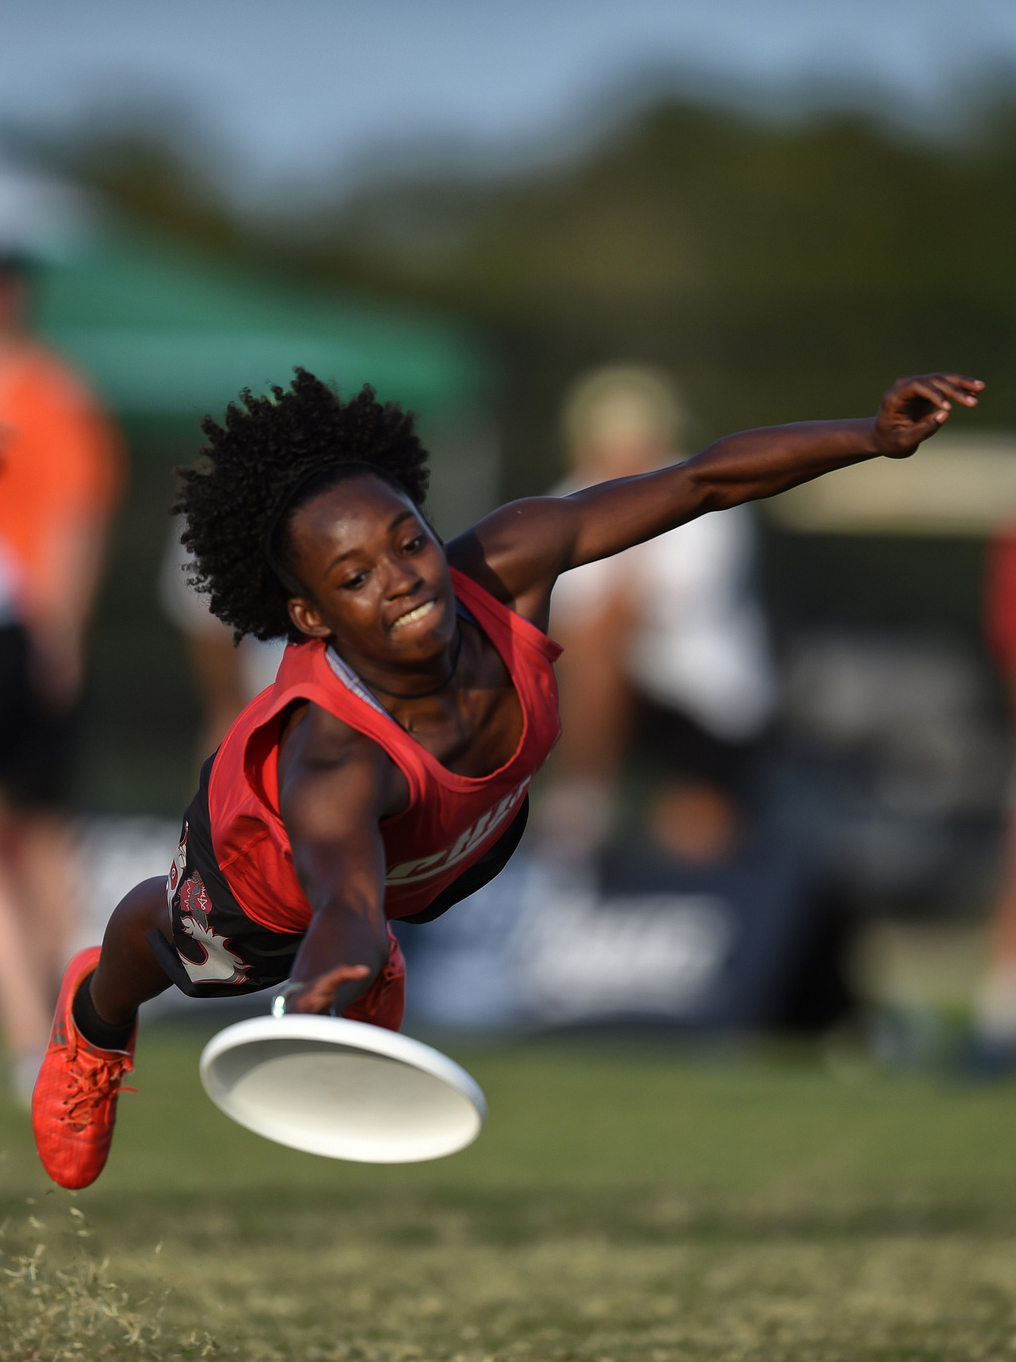disc: (193, 1017, 506, 1174)
